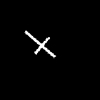single_crochet: (25, 31, 54, 56)
